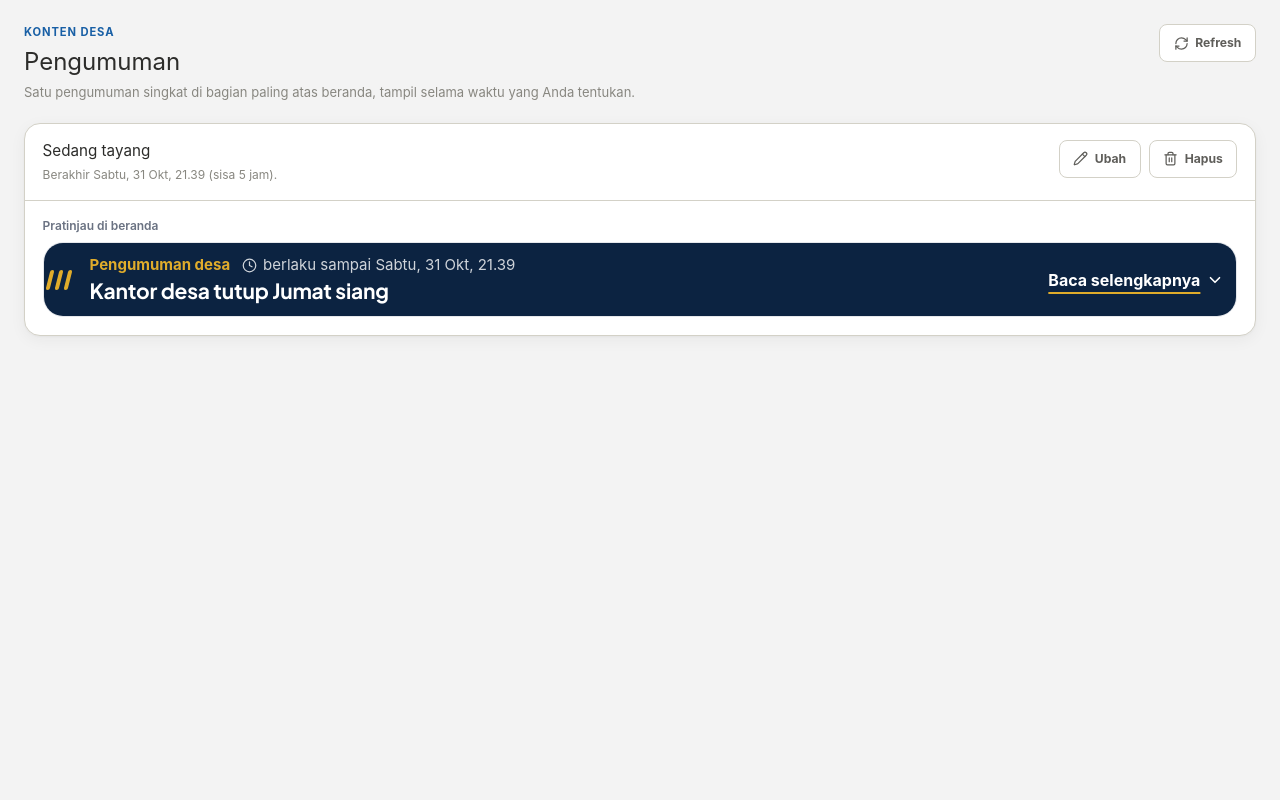
Test: KelolaPengumumanPage › deletes the announcement after confirmation
What coordinates should you click on to do the following:
click the button "Hapus"
I would click on:
 (1193, 159)
Its box is [1149, 140, 1237, 178].
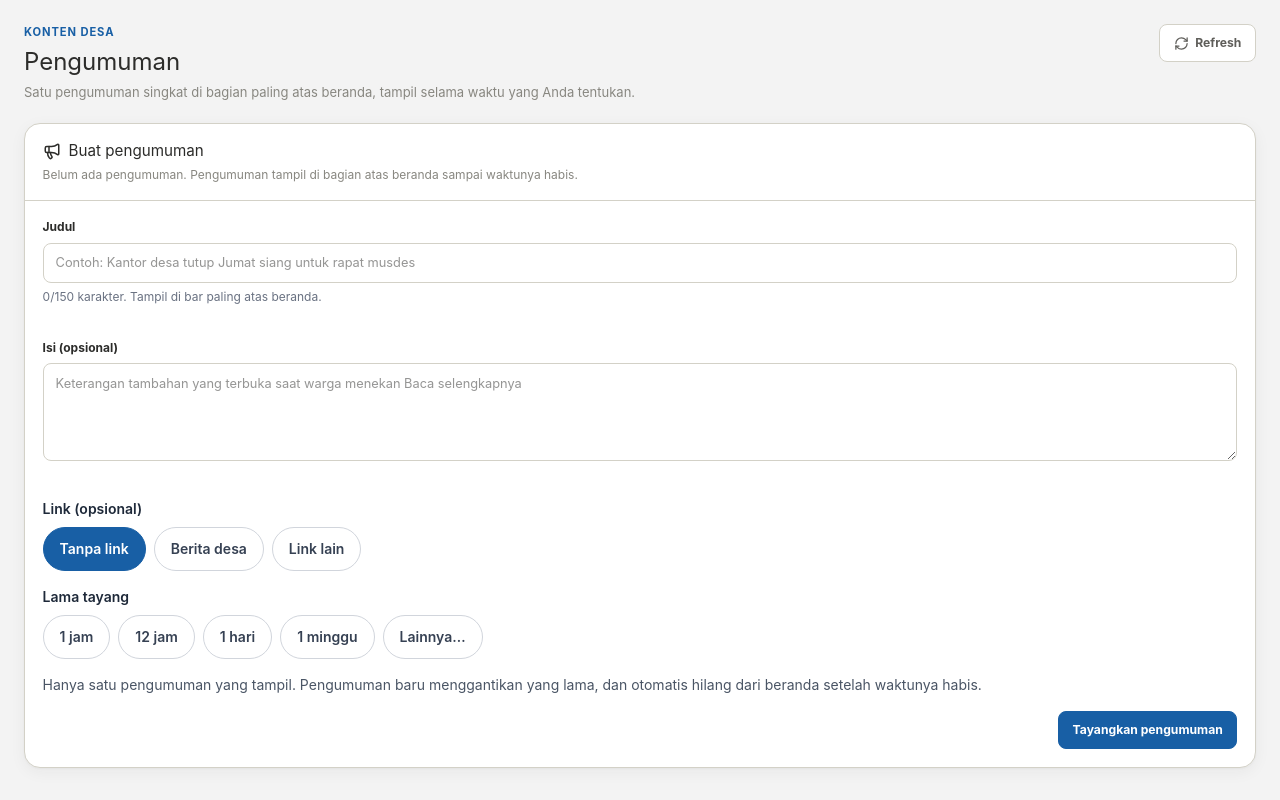
expect the text "Belum ada pengumuman" is shown: met, box [43, 167, 578, 182]
